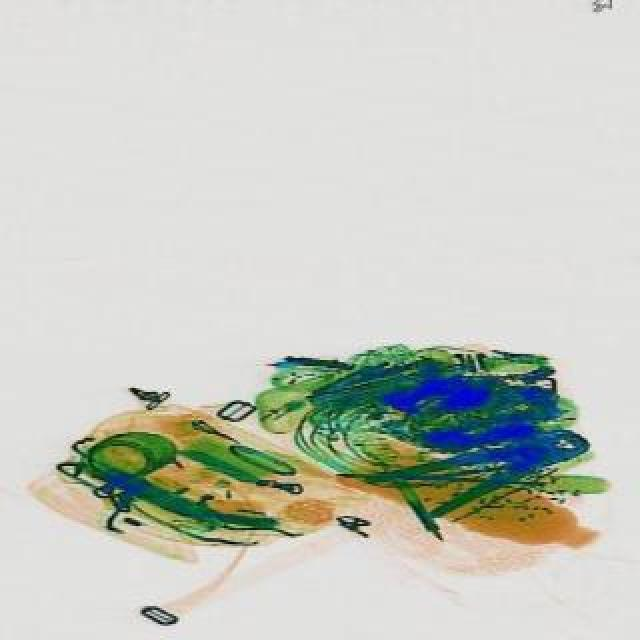wrench: (366, 406, 600, 534)
